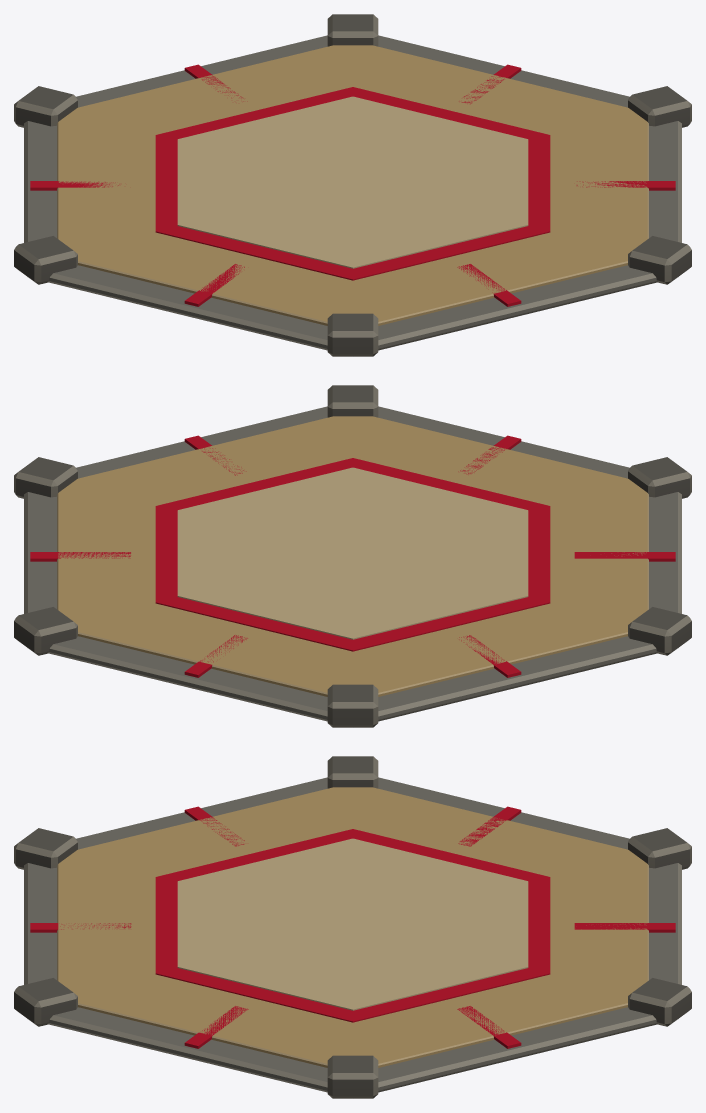
The model's file is e_hexpad.glb.
3 renders of one model, top to bottom at view 1: azimuth 30°, elevation 25°; view 2: azimuth 150°, elevation 25°; view 3: azimuth 270°, elevation 25°, orthographic.
Visible parts, largest first — view 1: e_hexpad; view 2: e_hexpad; view 3: e_hexpad.
Part boxes in pixels (x1,y1,x2,y2): e_hexpad: (14,14,691,356); e_hexpad: (14,385,691,727); e_hexpad: (14,756,691,1098).
Size of the model in its own units: 12 by 0.445 by 10.71.
